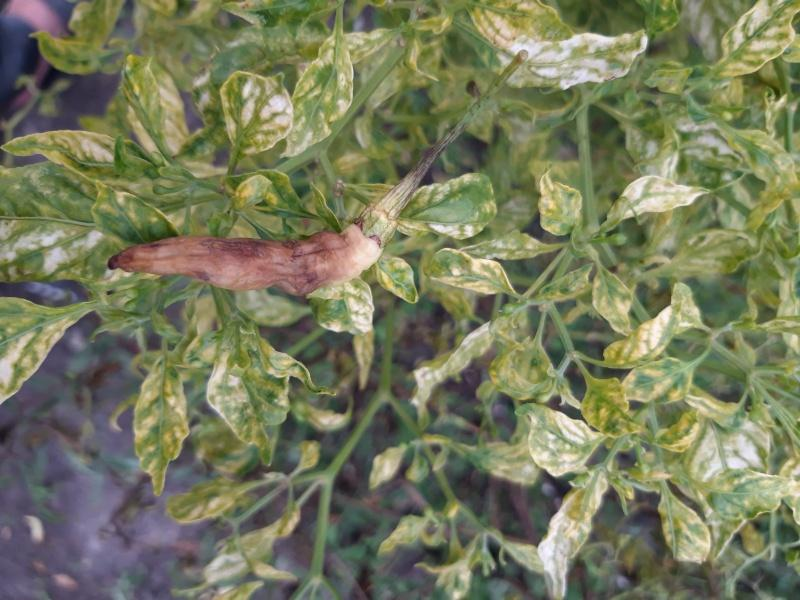antraknosa: (107, 220, 385, 298)
